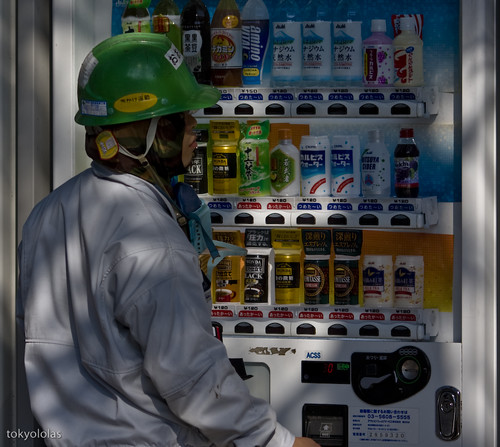person hardhat: (21, 28, 321, 447)
